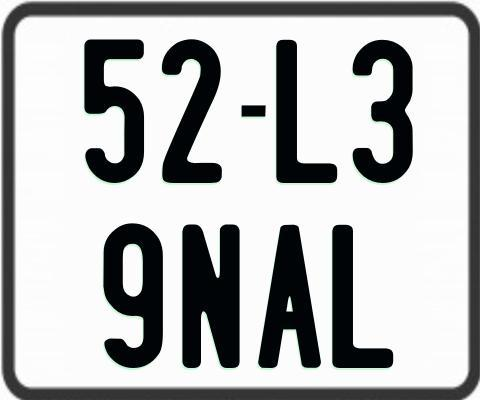2: (159, 38, 219, 187)
3: (353, 38, 413, 181)
5: (81, 38, 144, 183)
9: (100, 221, 161, 369)
A: (255, 223, 322, 367)
L: (332, 223, 399, 368), (274, 37, 337, 185)
N: (180, 222, 241, 368)
